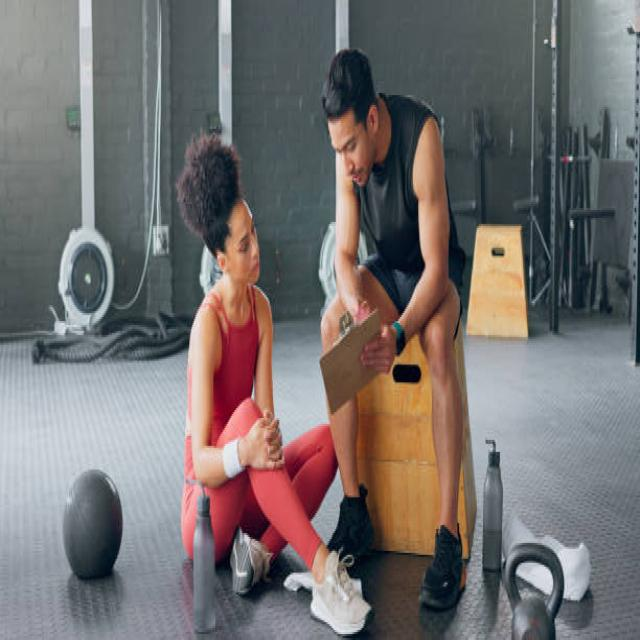no_helmet: (174, 193, 264, 294), (310, 174, 376, 240)
